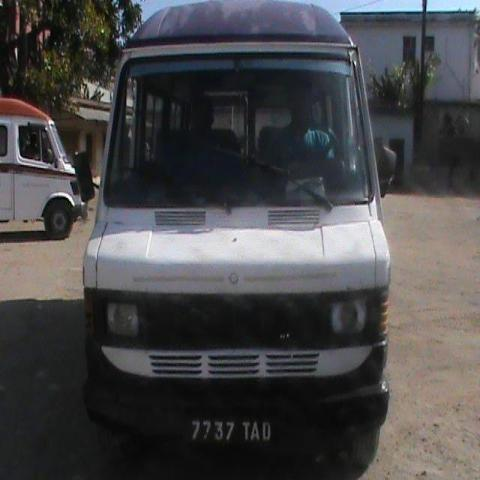van: (81, 2, 388, 469), (0, 96, 83, 237)
